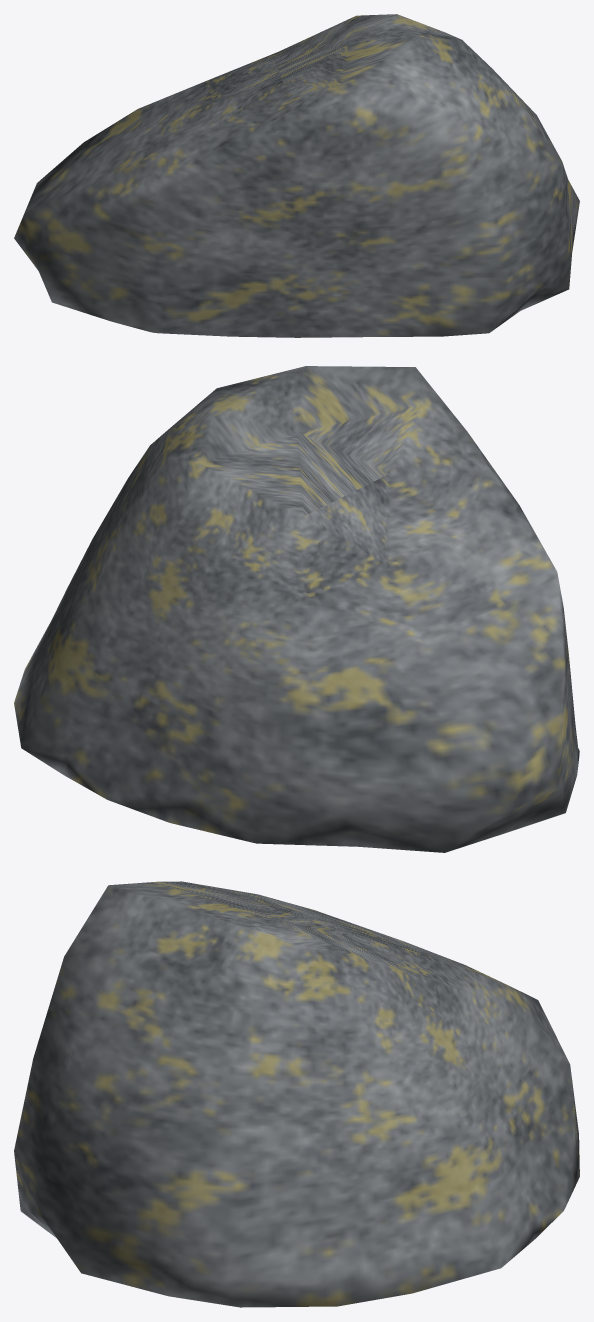
The model's file is rock_tundra_erratic_a.glb.
3 views of the same model, one above another, from view 1: azimuth 30°, elevation 25°; view 2: azimuth 150°, elevation 25°; view 3: azimuth 270°, elevation 25° (orthographic). The views are drawn at different scales.
Visible parts, largest first — view 1: rock_tundra_erratic_a; view 2: rock_tundra_erratic_a; view 3: rock_tundra_erratic_a.
Part boxes in pixels (x1,y1,x2,y2): rock_tundra_erratic_a: (14, 14, 579, 337); rock_tundra_erratic_a: (14, 366, 579, 852); rock_tundra_erratic_a: (14, 881, 579, 1307).
Bounding box in the file's own units: 2.79 × 1.38 × 2.38.
Materials: 1 (1 with a texture image).
